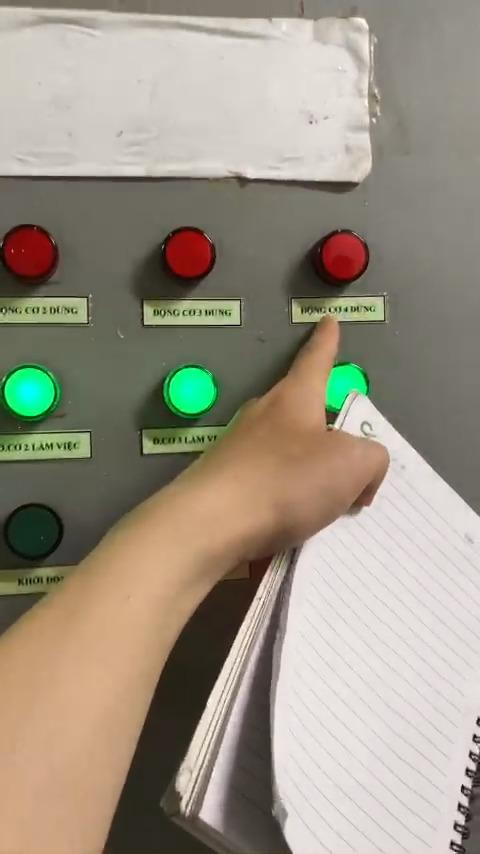led: (0, 216, 68, 285), (0, 498, 70, 562), (0, 359, 65, 421), (154, 359, 220, 419), (159, 223, 220, 281), (314, 228, 370, 282), (323, 360, 373, 410)
